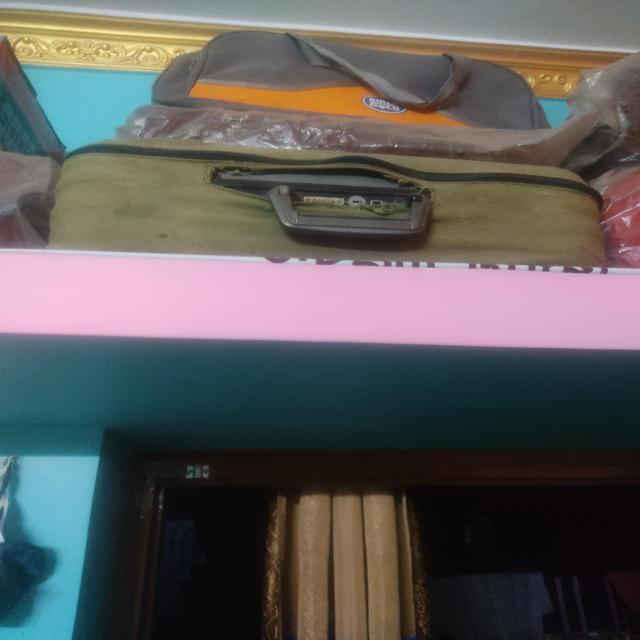luggage: (44, 136, 614, 272)
